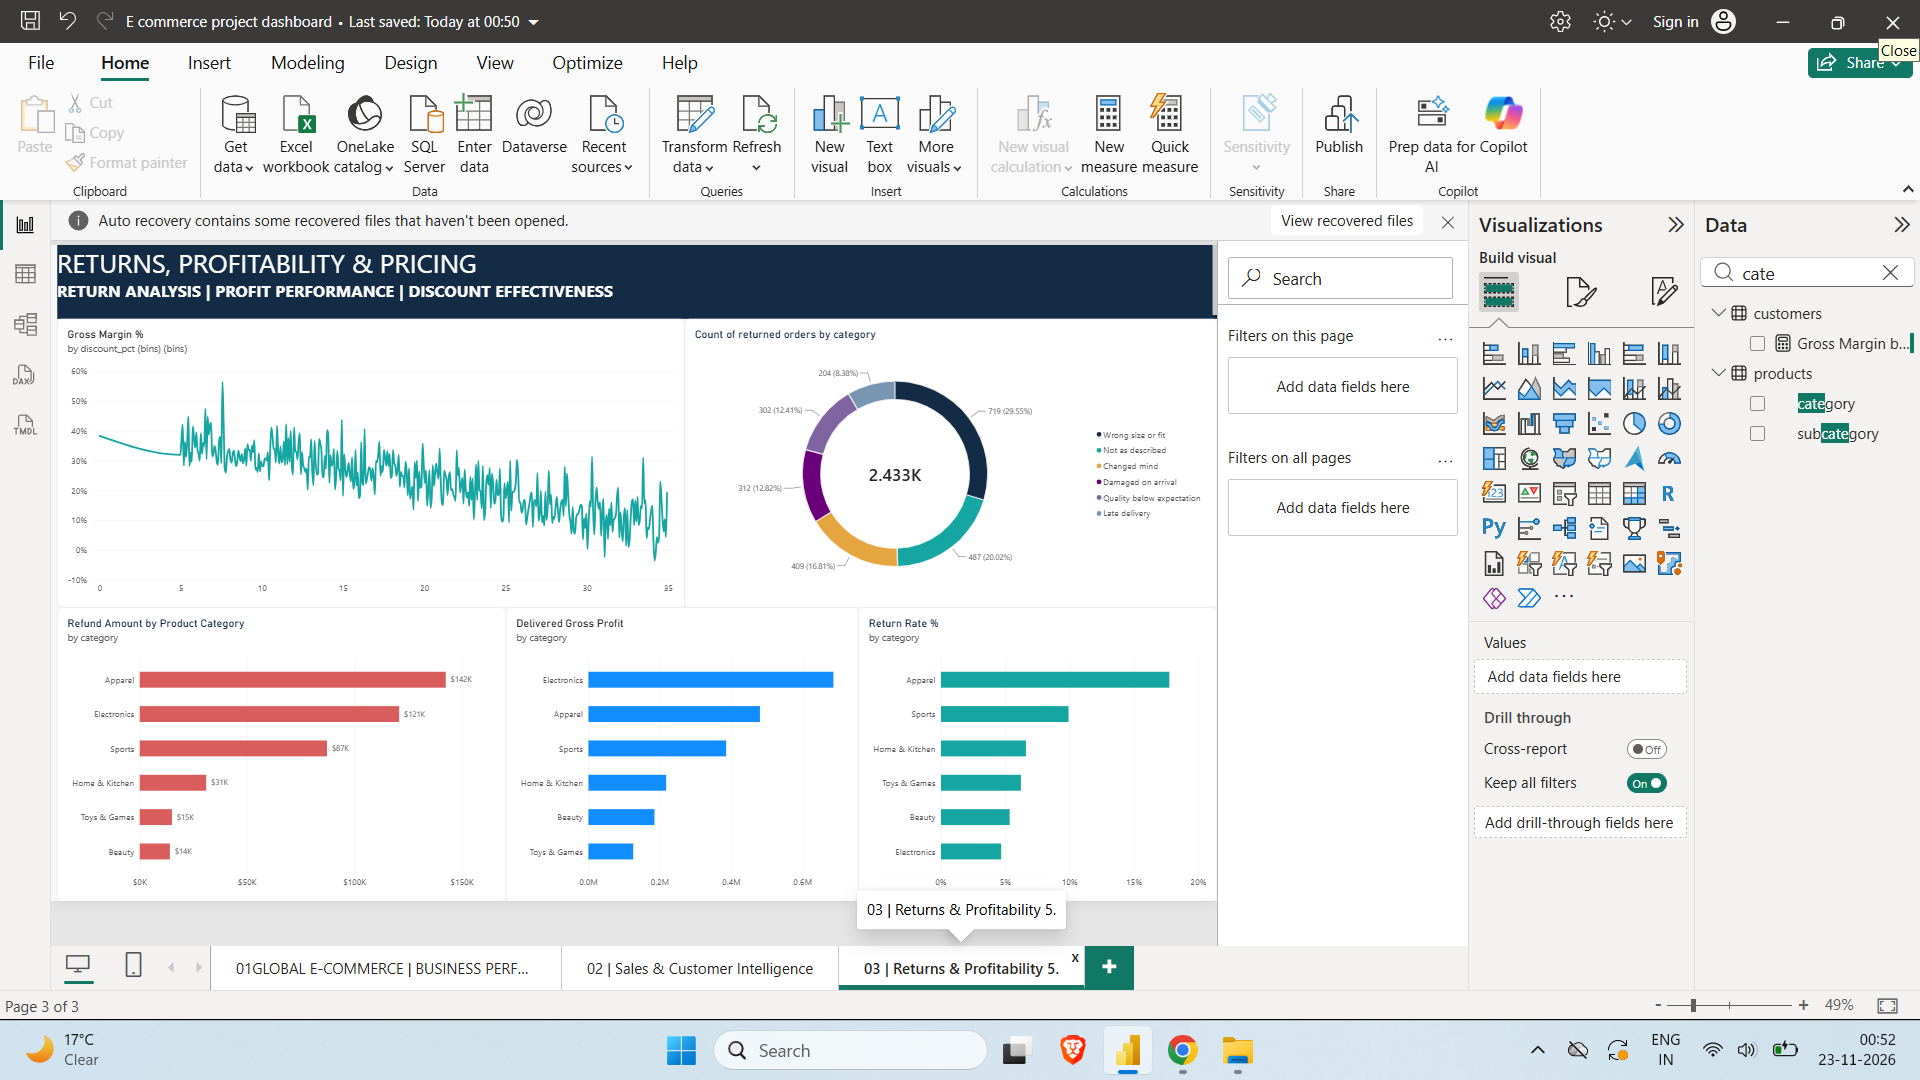

Layout of this report page (visuals, bound fields, positions):
{"tool":"powerbi","page":{"name":"03 | Returns & Profitability 5.","canvas":[1920,1080],"ordinal":2},"visuals":[{"type":"textbox","box":[10.3,0,1910.1,121.4],"z":0},{"type":"clusteredBarChart","fields":{"Category":["products.category"],"Y":["customers.Return Rate %"]},"box":[1329.7,596.9,590.7,483.7],"z":1},{"type":"donutChart","title":"Count of returned orders by category","fields":{"Category":["returns.return_reason"],"Y":["CountNonNull(returns.order_item_id)"]},"box":[1043.6,121.4,876.8,475.5],"z":2},{"type":"clusteredBarChart","title":"Refund Amount by Product Category","fields":{"Category":["products.category"],"Y":["Sum(returns.refund_amount_usd)"]},"box":[10.3,596.9,738.9,483.7],"z":3},{"type":"lineChart","fields":{"Category":["order_items.discount_pct (bins) (bins)"],"Y":["customers.Gross Margin %"]},"box":[10.3,121.4,1033.3,475.5],"z":4},{"type":"clusteredBarChart","fields":{"Category":["products.category"],"Y":["customers.Delivered Gross Profit"]},"box":[749.2,596.9,580.4,483.7],"z":5}]}

Visuals, with their boxes on the page's 1920x1080 design canvas (x1, y1, x2, y2). These are canvas units, not pixel positions in the 1920x1080 screenshot, which may show the page scaled, cropped or inside an application window:
textbox: 10, 0, 1920, 121
clusteredBarChart - products.category x customers.Return Rate %: 1330, 597, 1920, 1081
"Count of returned orders by category" donutChart: 1044, 121, 1920, 597
"Refund Amount by Product Category" clusteredBarChart: 10, 597, 749, 1081
lineChart - order_items.discount_pct (bins) (bins) x customers.Gross Margin %: 10, 121, 1044, 597
clusteredBarChart - products.category x customers.Delivered Gross Profit: 749, 597, 1330, 1081
